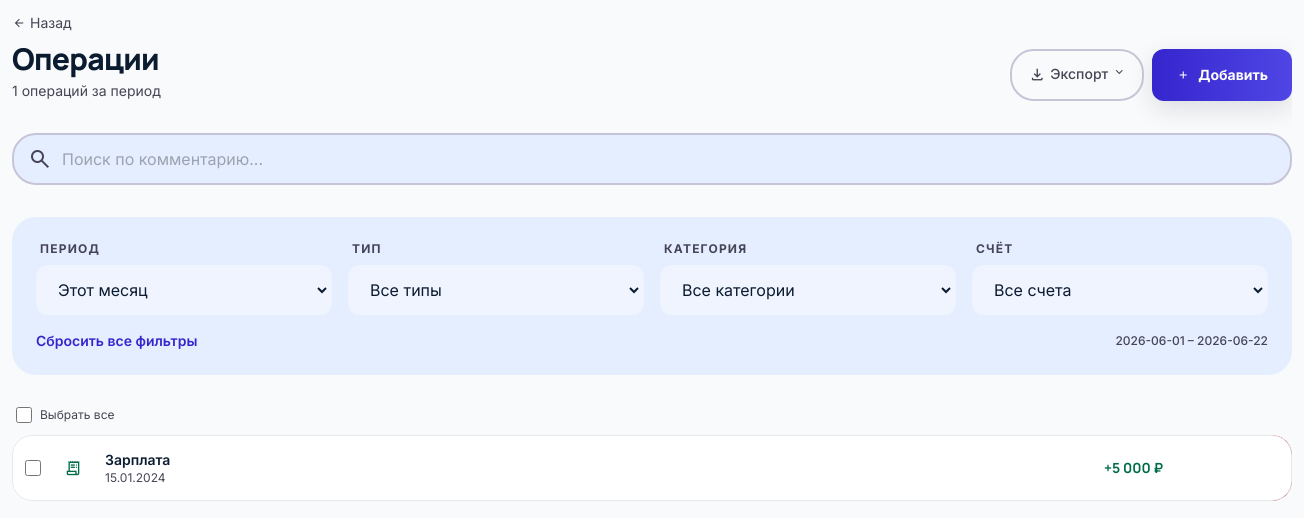
it: Transactions › shows export dropdown on click
This screenshot has width=1304, height=518.
Expected: the heading "Операции" is shown, left=12, top=41, right=161, bottom=77
Click the button "Экспорт".
click(1077, 75)  # box left=1010, top=49, right=1144, bottom=101
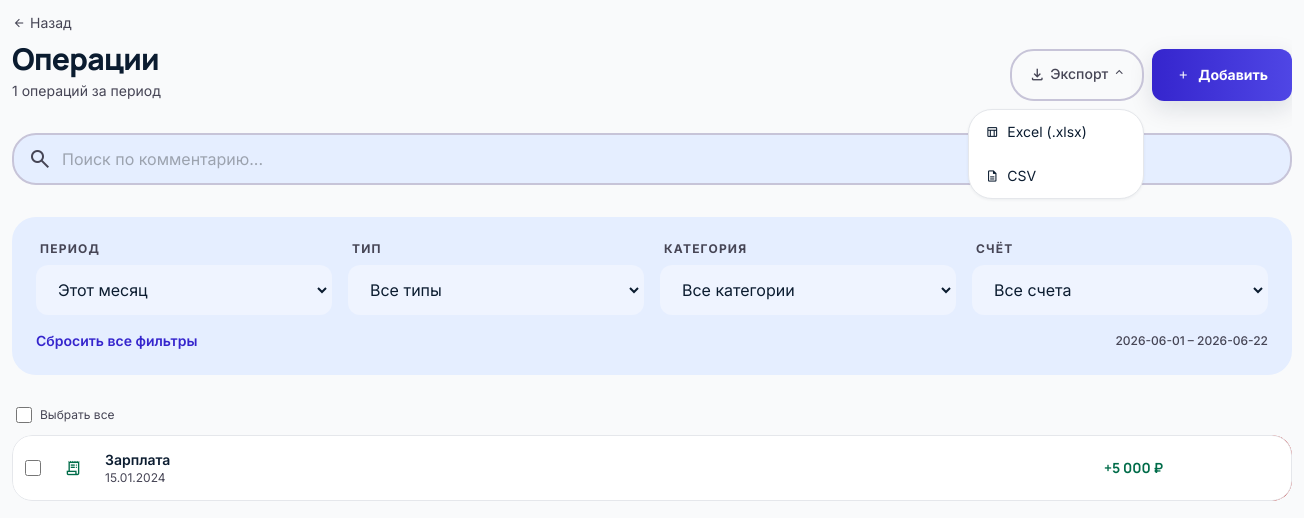
Expected: the button "Excel (.xlsx)" is shown, left=969, top=110, right=1143, bottom=154
Expected: the button "CSV" is shown, left=969, top=154, right=1143, bottom=198
